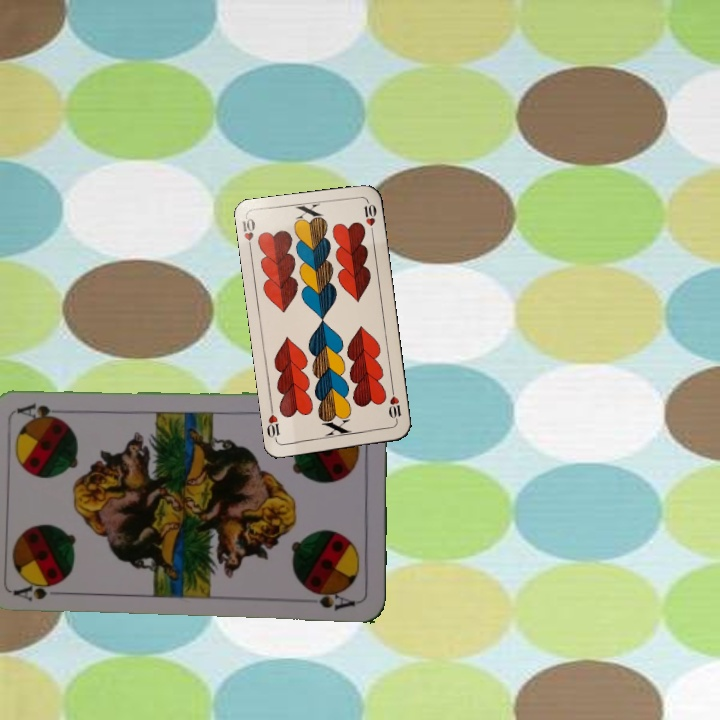H10: (384, 385, 404, 426), (238, 214, 258, 255)
SA: (10, 576, 69, 603)
